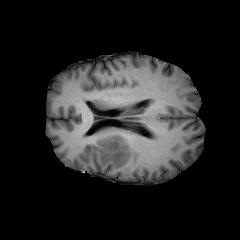glioma: (83, 132, 134, 169)
